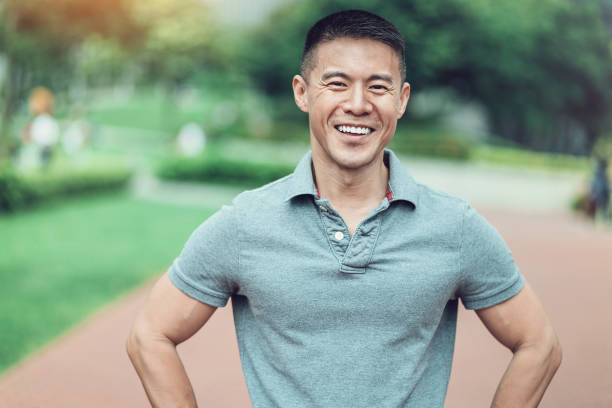person: (290, 8, 411, 178)
